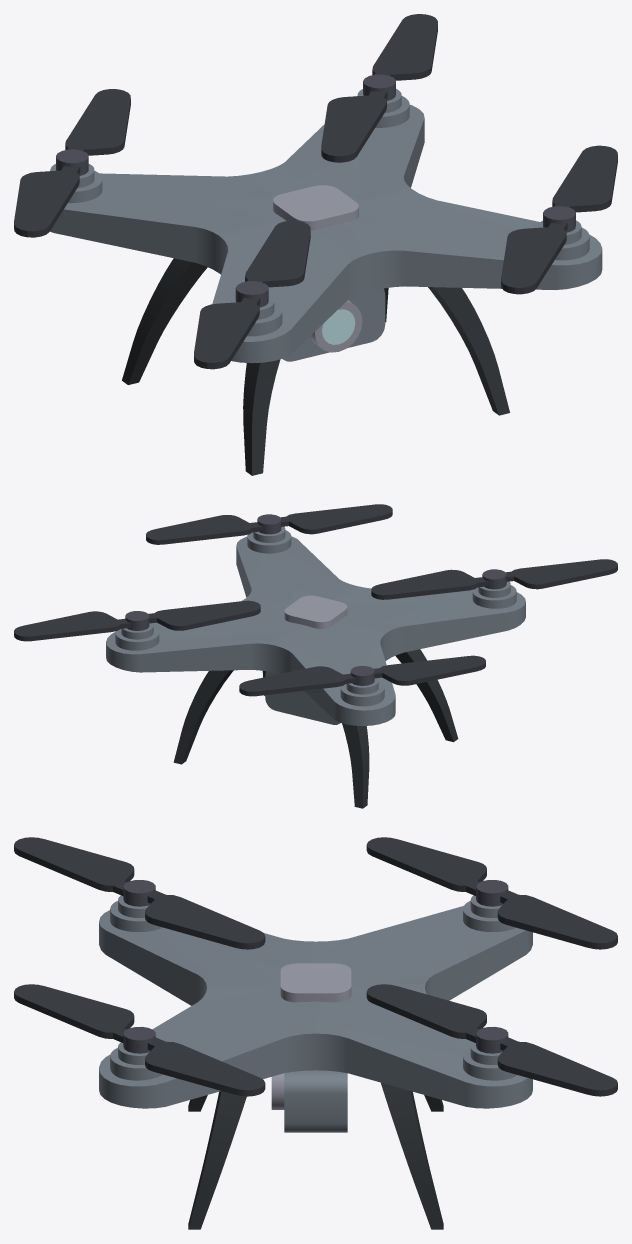
Rendered from Drone.fbx.
3 renders of one model, top to bottom at view 1: azimuth 30°, elevation 25°; view 2: azimuth 150°, elevation 25°; view 3: azimuth 270°, elevation 25°, orthographic. The views are drawn at different scales.
Parts seen in each view (by area): view 1: Drone, Drone.001, Drone.004, Drone.002, Drone.003; view 2: Drone, Drone.002, Drone.004, Drone.001, Drone.003; view 3: Drone, Drone.003, Drone.001, Drone.002, Drone.004.
Boxes of the visible parts, x1,y1,x2,y2 form: Drone: [49, 89, 602, 475]; Drone.001: [194, 220, 310, 369]; Drone.004: [501, 145, 617, 294]; Drone.002: [14, 89, 130, 237]; Drone.003: [321, 14, 437, 162]; Drone: [106, 526, 525, 808]; Drone.002: [239, 655, 485, 696]; Drone.004: [146, 504, 392, 544]; Drone.001: [371, 559, 617, 599]; Drone.003: [14, 600, 260, 641]; Drone: [99, 895, 532, 1229]; Drone.003: [366, 984, 617, 1096]; Drone.001: [14, 837, 265, 949]; Drone.002: [366, 837, 617, 949]; Drone.004: [14, 984, 265, 1096].
Bounding box in the file's own units: 1.49 × 0.5696 × 1.5.
